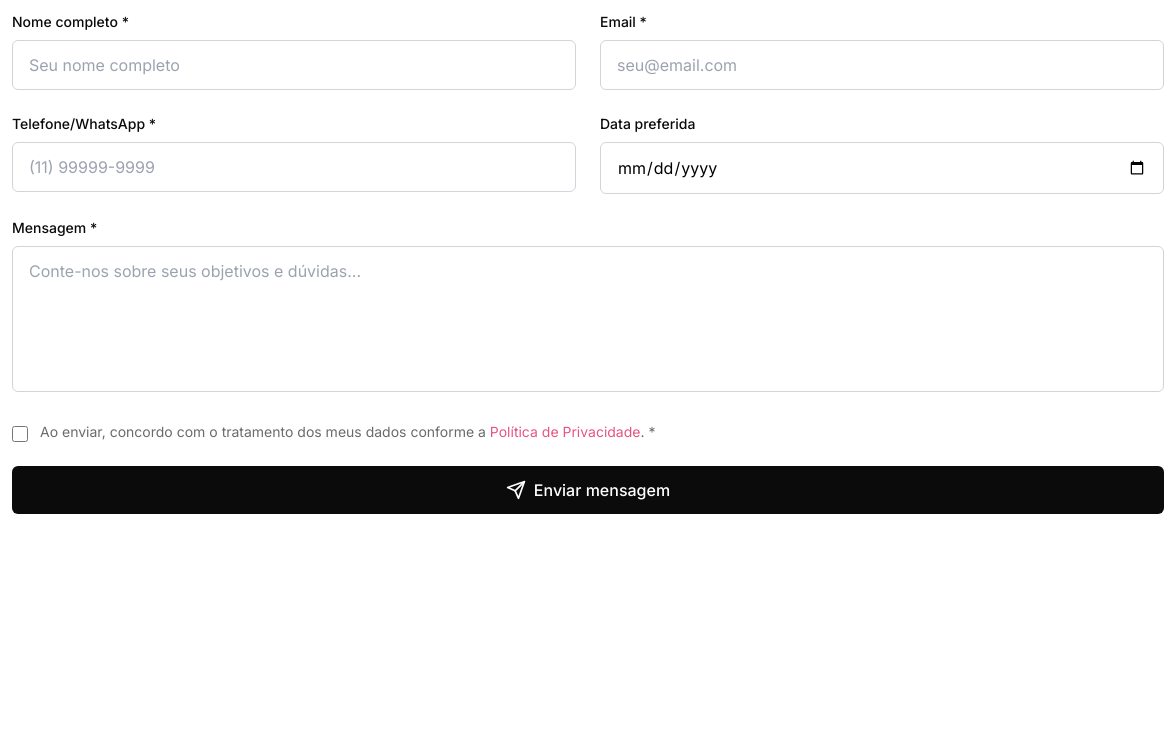
ContactForm › shows error message on failed submission
The width and height of the screenshot is (1176, 732).
// Fill form
Type "João Silva" into the field labelled "Nome completo *".
click(294, 65); type("João Silva")  # box [12,40,576,90]
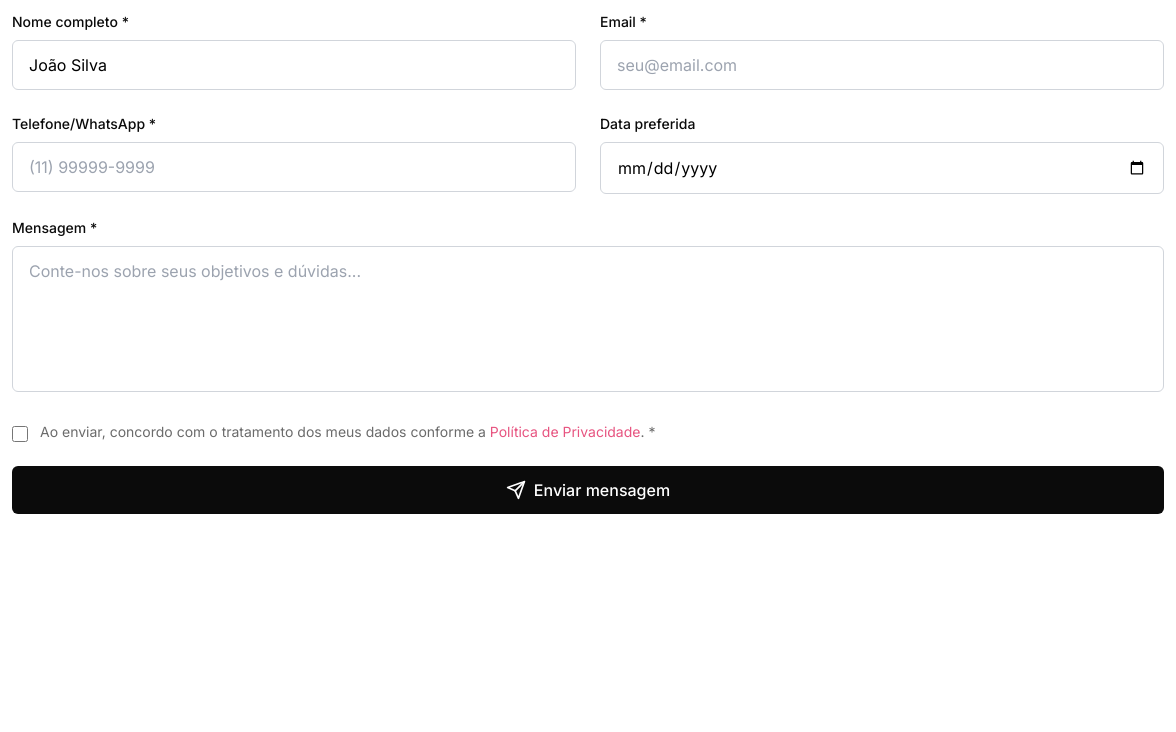
Type "joao@email.com" into the field labelled "Email *".
click(882, 65); type("joao@email.com")  # box [600,40,1164,90]
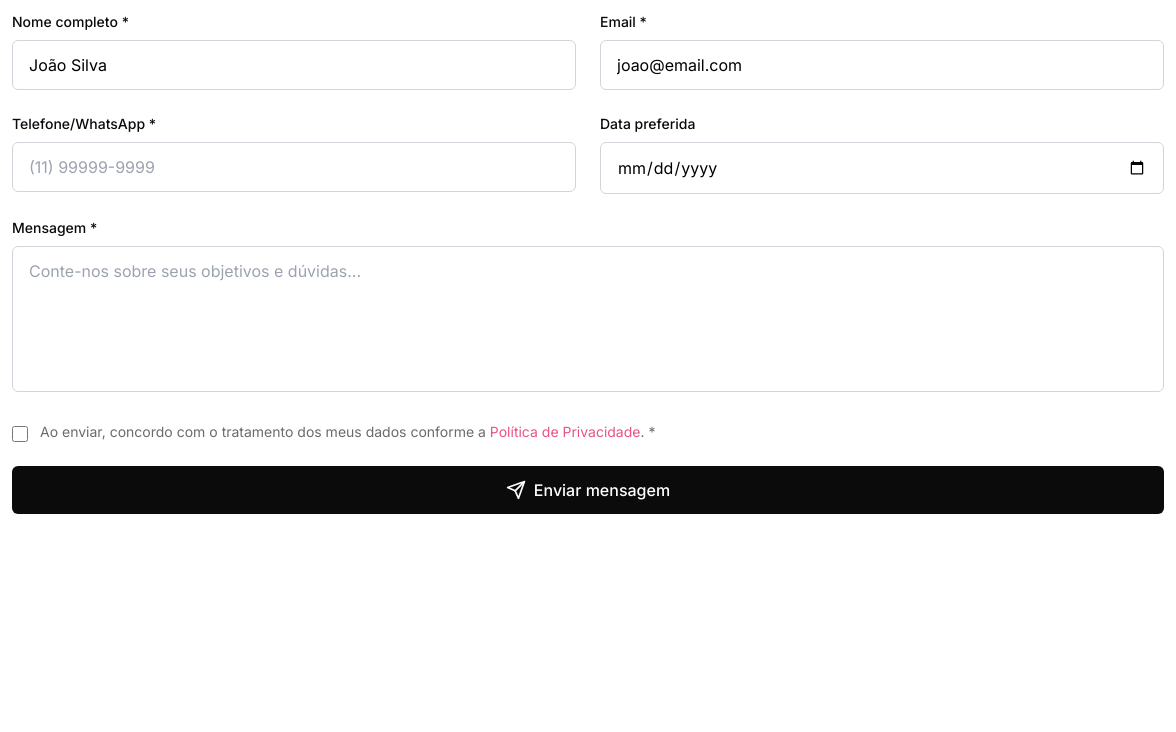
Type "11999999999" into the field labelled "Telefone/WhatsApp *".
click(294, 167); type("11999999999")  # box [12,142,576,192]
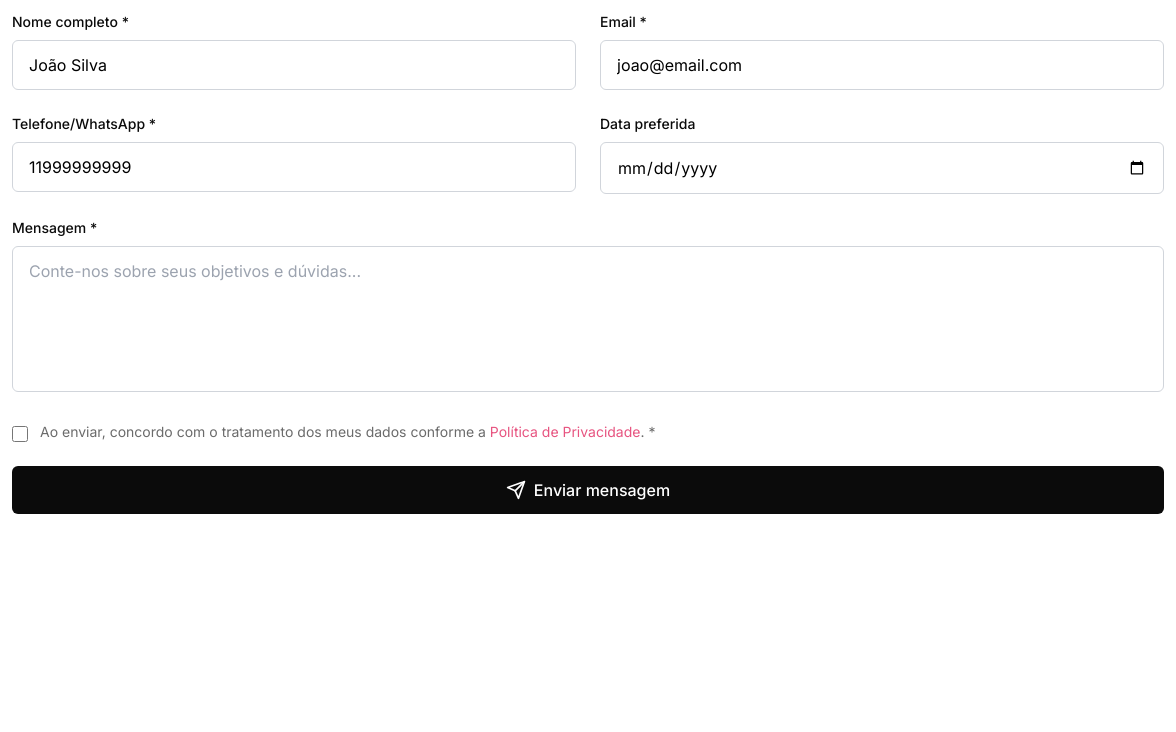
Type "Gostaria de agendar uma consulta" into the text box labelled "Mensagem *".
click(588, 319); type("Gostaria de agendar uma consulta")  # box [12,246,1164,392]
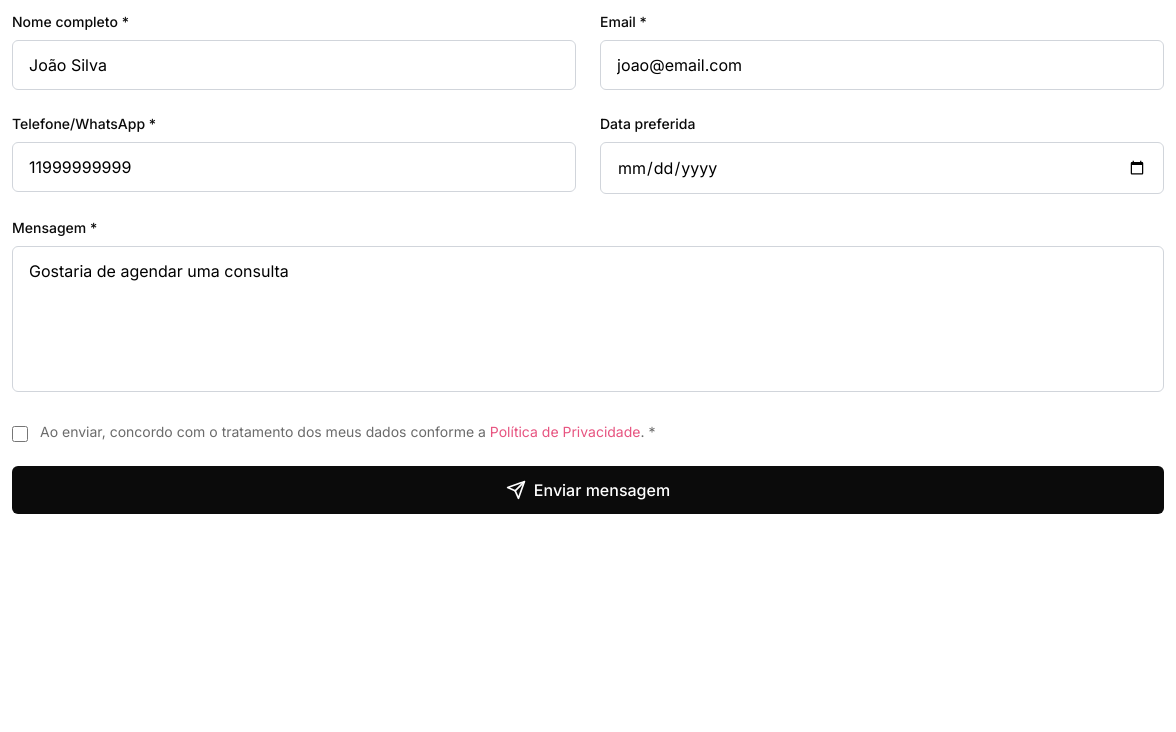
Click the checkbox labelled "concordo com o tratamento".
click(20, 434)  # box [12,426,28,442]
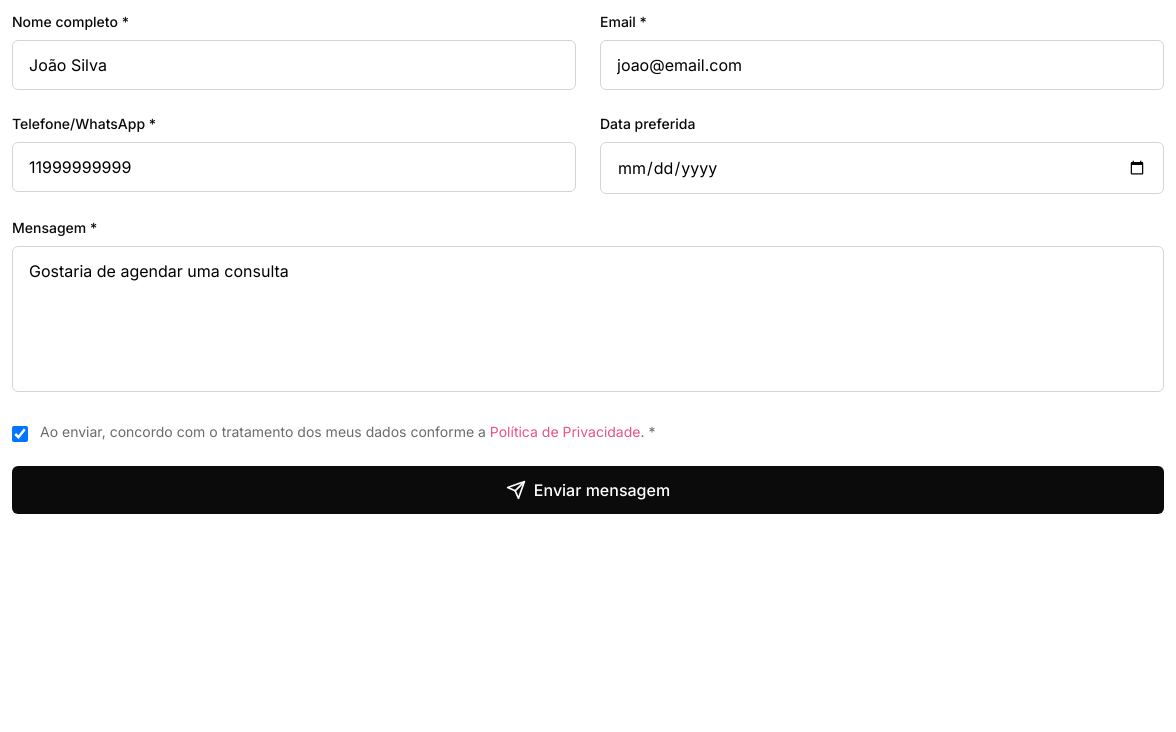
// Submit form
Click the button "Enviar mensagem".
click(588, 490)  # box [12,466,1164,514]
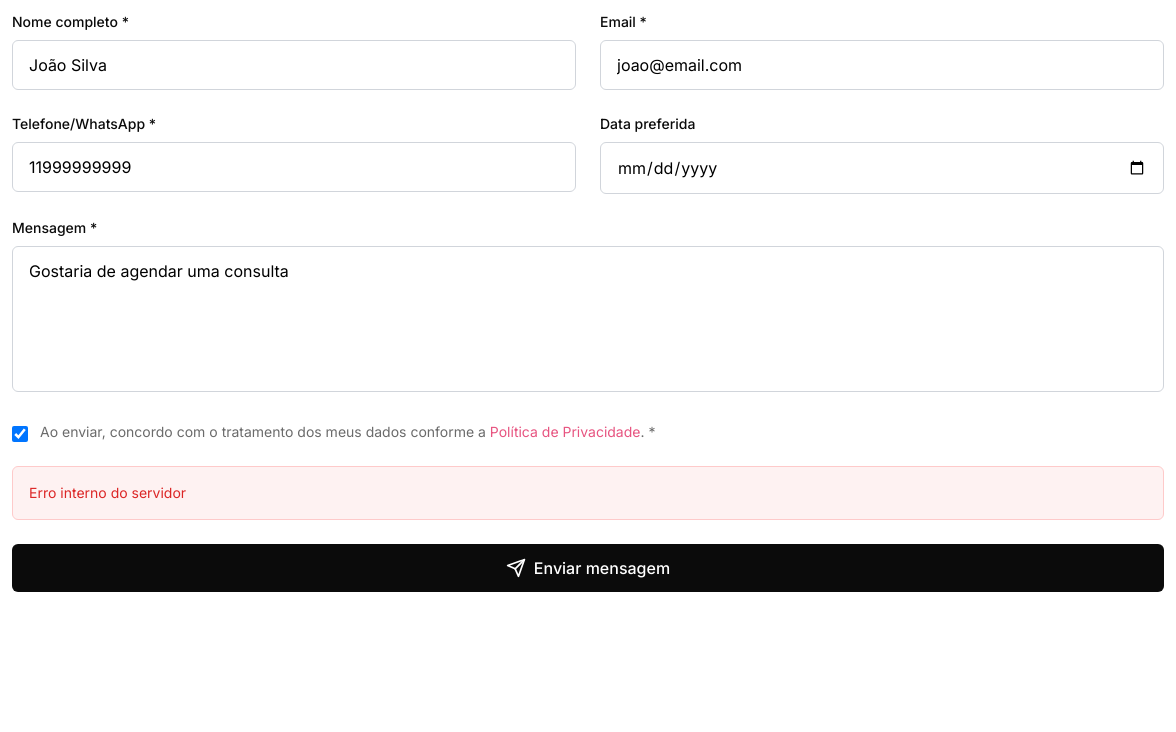
Expected: the text "Erro interno do servidor" is shown, [29,484,186,501]
